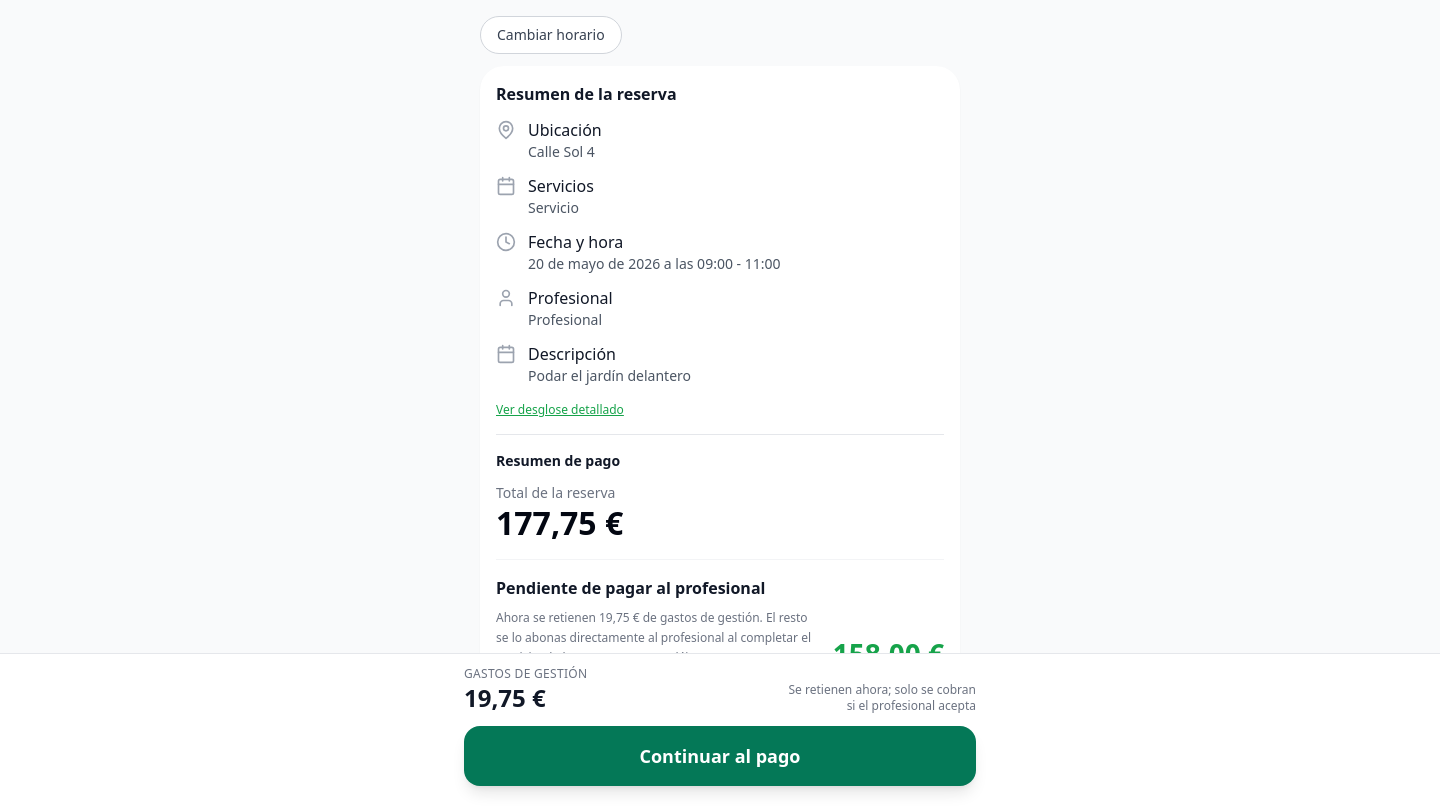
ConfirmationPage embedded payment flow › permite cerrar el pago y reabrirlo sin preparar un nuevo intento
Click the button "Continuar al pago" at (720,756), box [464,726,976,786]
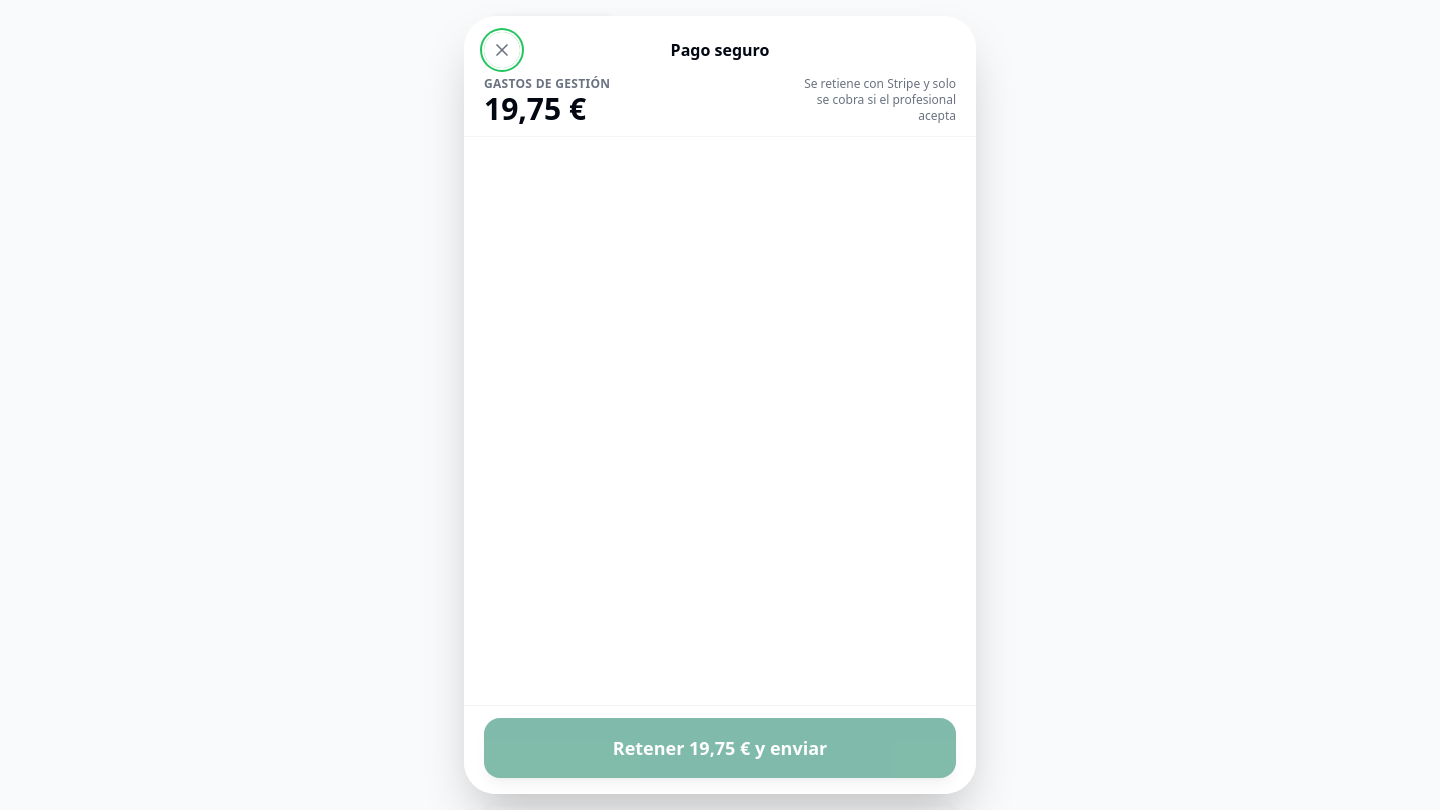
Click the button named "Cerrar pago" at (502,50), box [484,32,520,68]
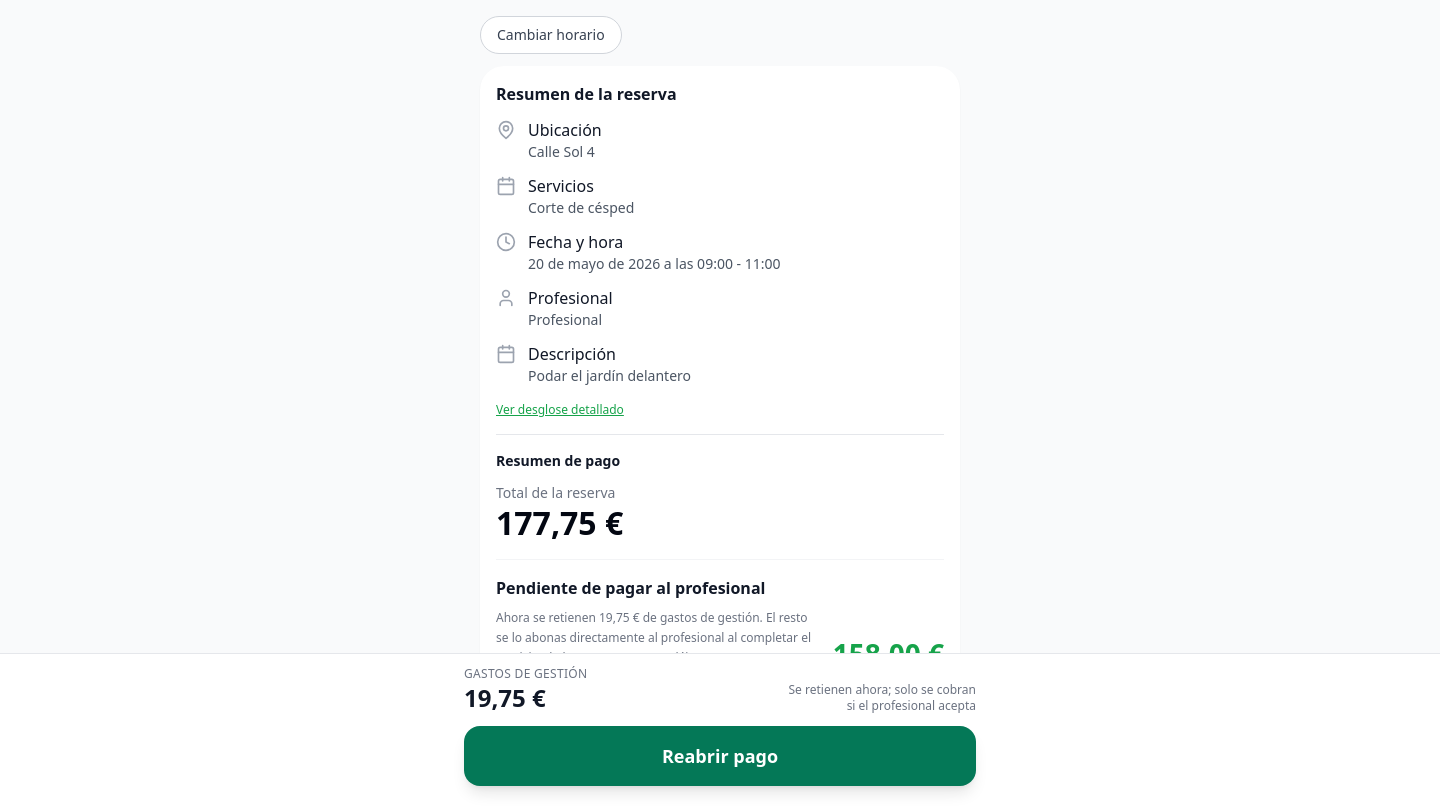
Expected: the text "Pago seguro" is gone
Expected: the button "Reabrir pago" is shown
Click the button "Reabrir pago" at (720,756), box [464,726,976,786]
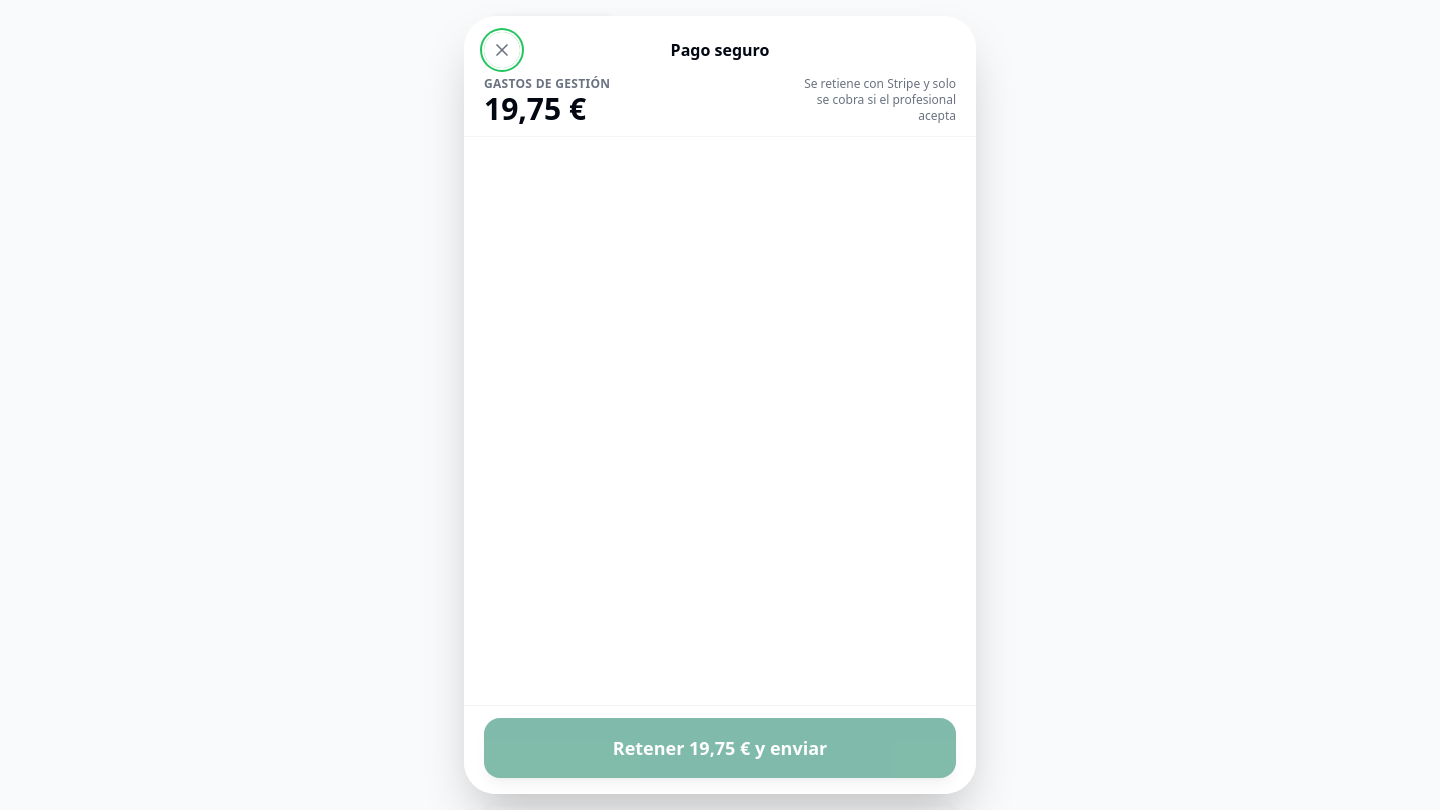
Expected: the dialog "Pago seguro" is shown, [464,16,976,794]
